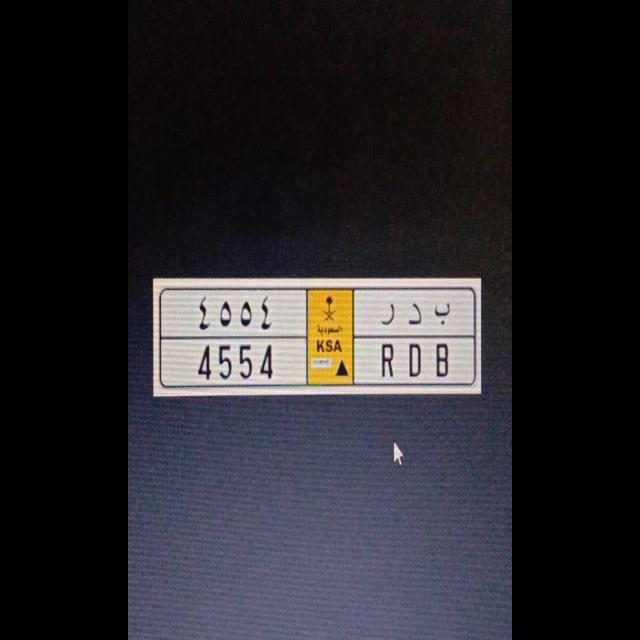license_plate: (157, 339, 478, 389)
